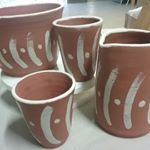cups: (11, 68, 78, 150), (49, 12, 105, 82)
